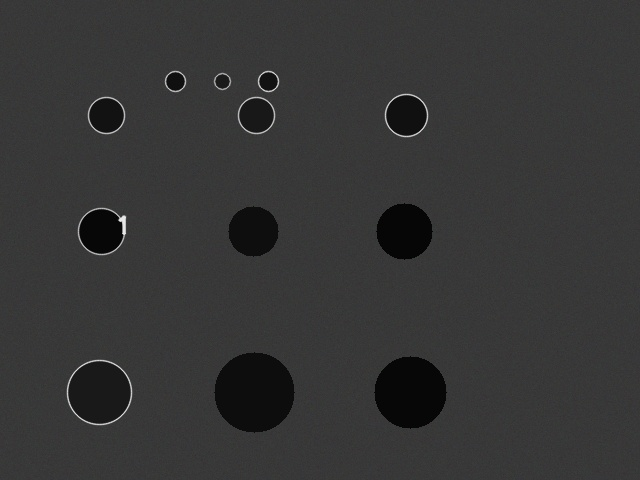hole: (214, 352, 294, 432), (374, 356, 446, 428), (67, 360, 131, 424), (376, 203, 432, 259), (228, 206, 278, 256), (78, 208, 124, 254), (385, 94, 427, 136), (88, 97, 124, 133), (238, 97, 274, 133), (165, 71, 185, 91), (258, 71, 278, 91), (214, 73, 230, 89)
